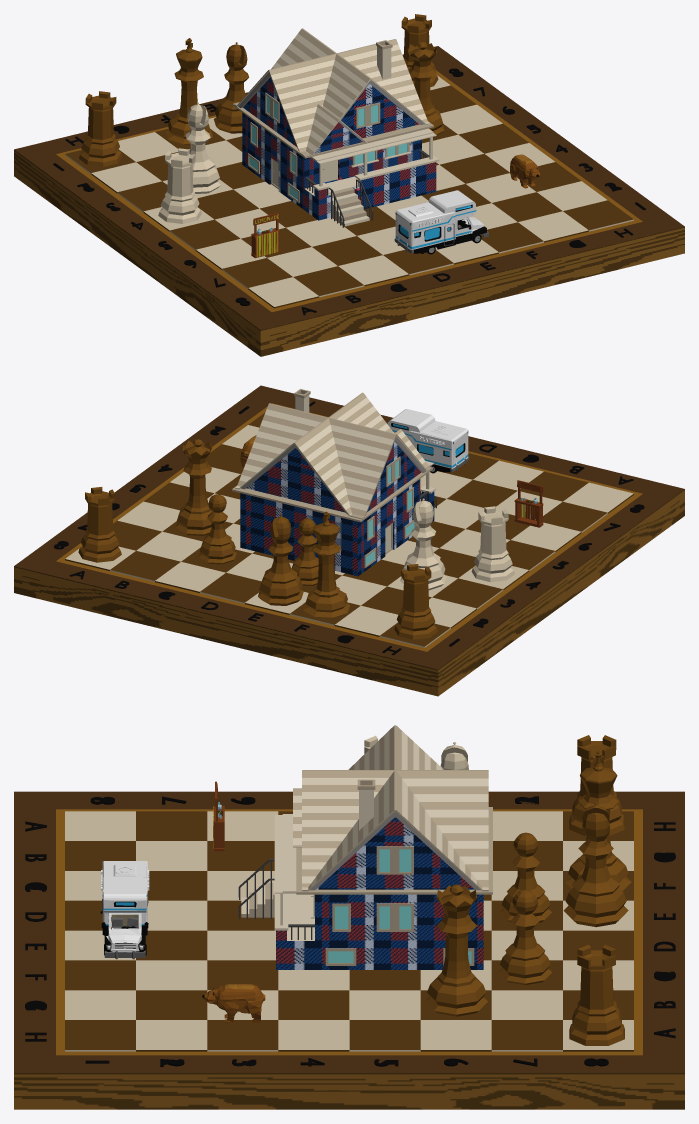
3 renders of one model, top to bottom at view 1: azimuth 30°, elevation 25°; view 2: azimuth 150°, elevation 25°; view 3: azimuth 270°, elevation 25°, orthographic. The views are drawn at different scales.
Visible parts, largest first — view 1: Cube.002, Cube.171, VEHICLES_CAMPER, OBJRANDOM_LEMONADE_STAND, ANIMAL_OSO; view 2: Cube.002, Cube.171, VEHICLES_CAMPER, OBJRANDOM_LEMONADE_STAND; view 3: Cube.002, Cube.171, VEHICLES_CAMPER, ANIMAL_OSO, OBJRANDOM_LEMONADE_STAND.
Part boxes in pixels (x1,y1,x2,y2): Cube.002: [14, 14, 684, 356]; Cube.171: [232, 28, 439, 227]; VEHICLES_CAMPER: [394, 190, 488, 254]; OBJRANDOM_LEMONADE_STAND: [251, 212, 279, 258]; ANIMAL_OSO: [510, 154, 540, 188]; Cube.002: [14, 385, 684, 696]; Cube.171: [232, 389, 436, 576]; VEHICLES_CAMPER: [387, 409, 469, 473]; OBJRANDOM_LEMONADE_STAND: [514, 480, 543, 527]; Cube.002: [14, 735, 684, 1109]; Cube.171: [238, 725, 492, 969]; VEHICLES_CAMPER: [100, 861, 149, 959]; ANIMAL_OSO: [202, 984, 265, 1022]; OBJRANDOM_LEMONADE_STAND: [213, 781, 224, 851].
Bounding box in the file's own units: 3981 × 1484 × 4012.
41 materials, 3 textured.
